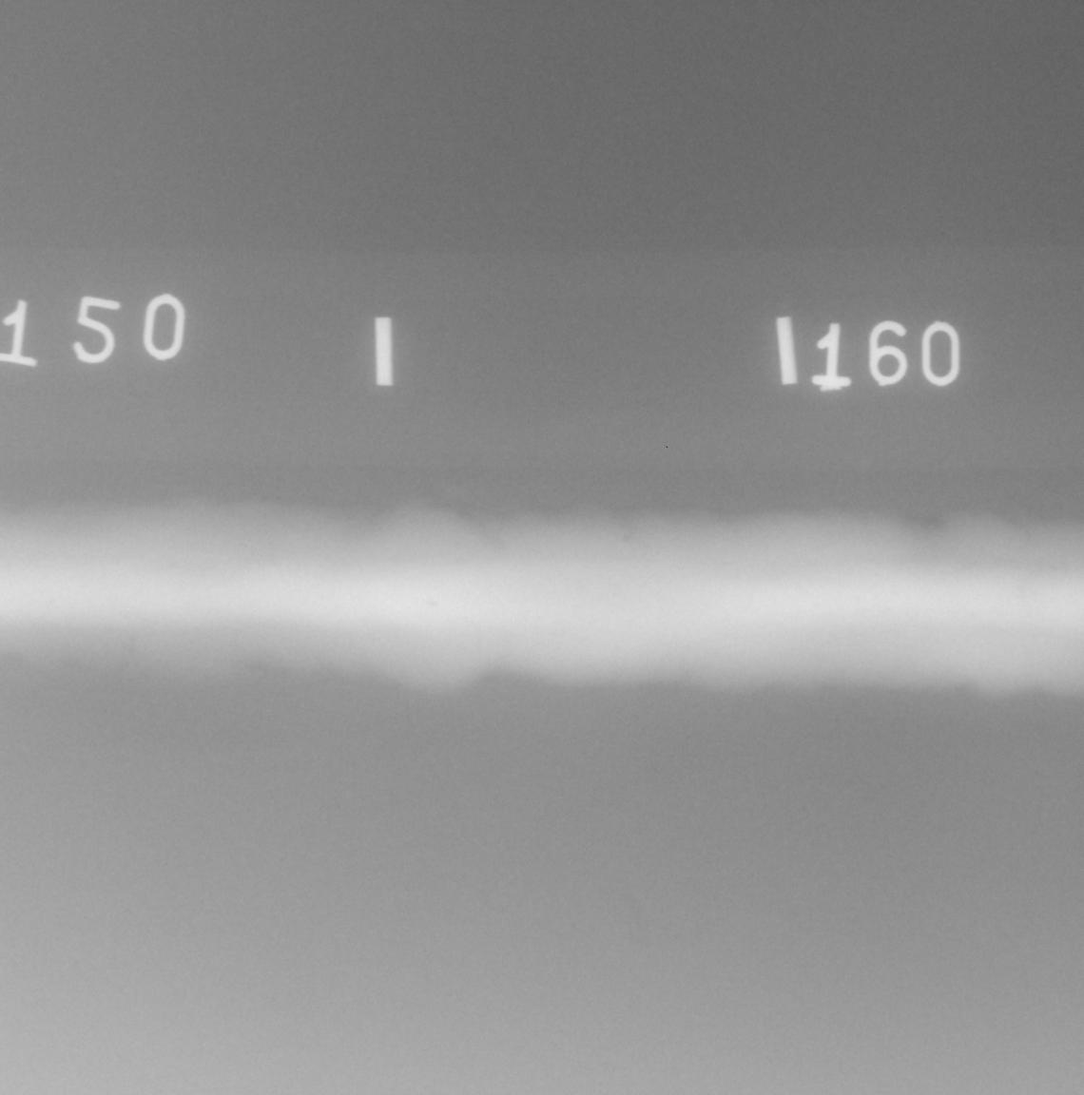Pore/Porosity: (429, 600, 437, 607), (622, 536, 628, 541)
